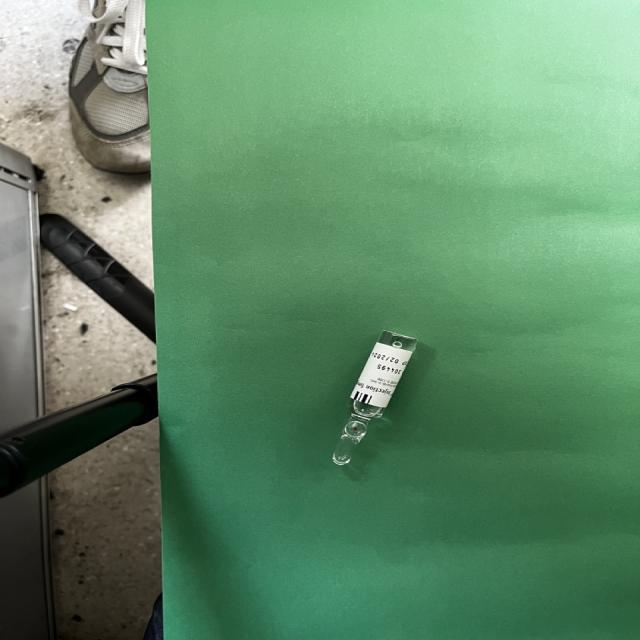Ampoules: (333, 331, 417, 466)
